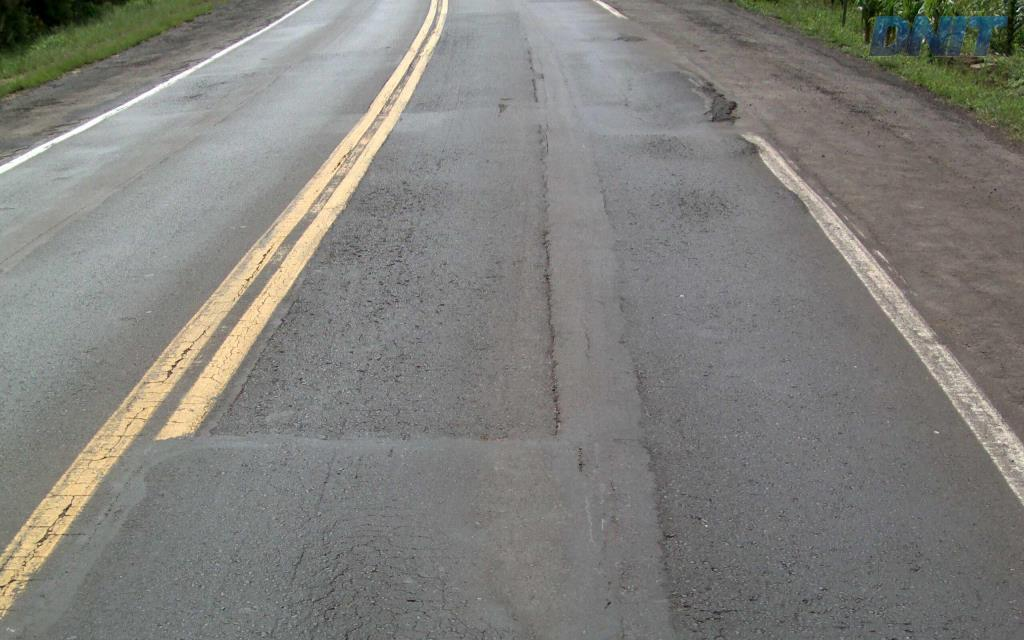crack: (666, 576, 742, 639), (287, 563, 353, 624), (341, 588, 385, 624)
